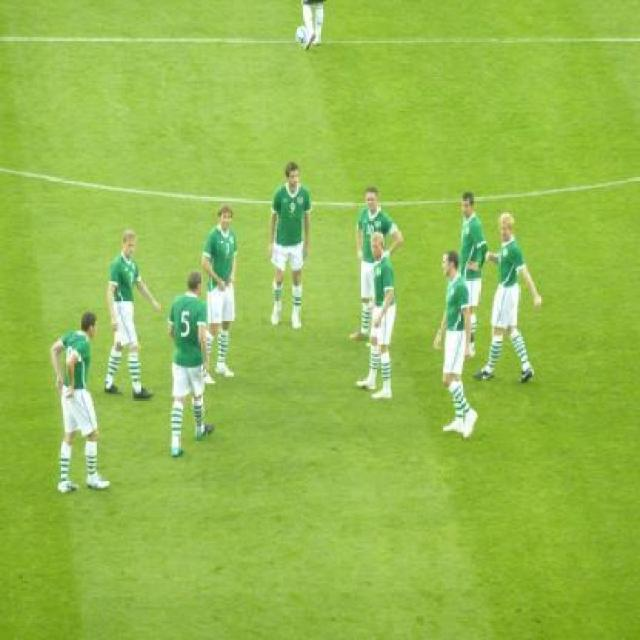Person: (52, 315, 111, 487), (486, 213, 543, 384), (106, 232, 160, 394), (169, 274, 214, 455), (354, 235, 398, 402), (270, 163, 312, 328), (437, 252, 471, 439), (202, 208, 236, 377), (460, 191, 488, 355)
